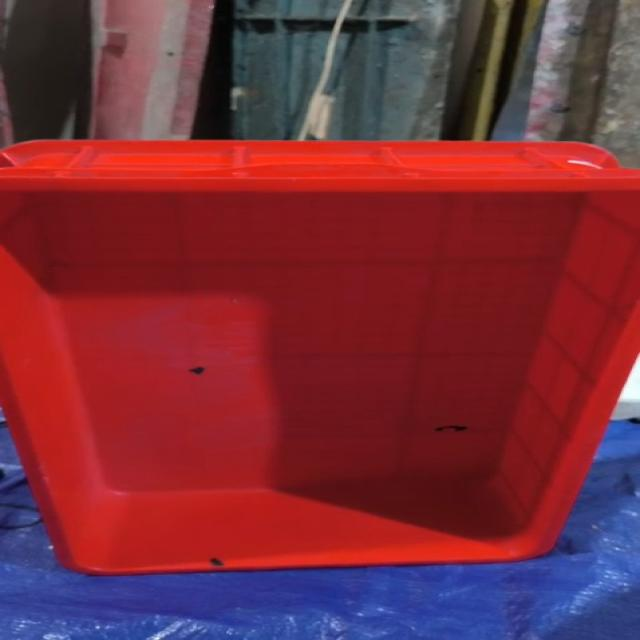red plastic box: (0, 140, 639, 576)
